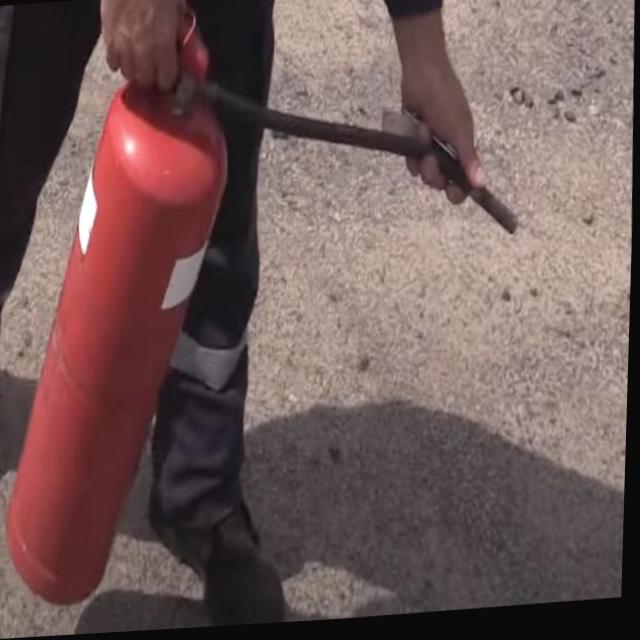FireExtinguisher: (0, 0, 538, 618)
